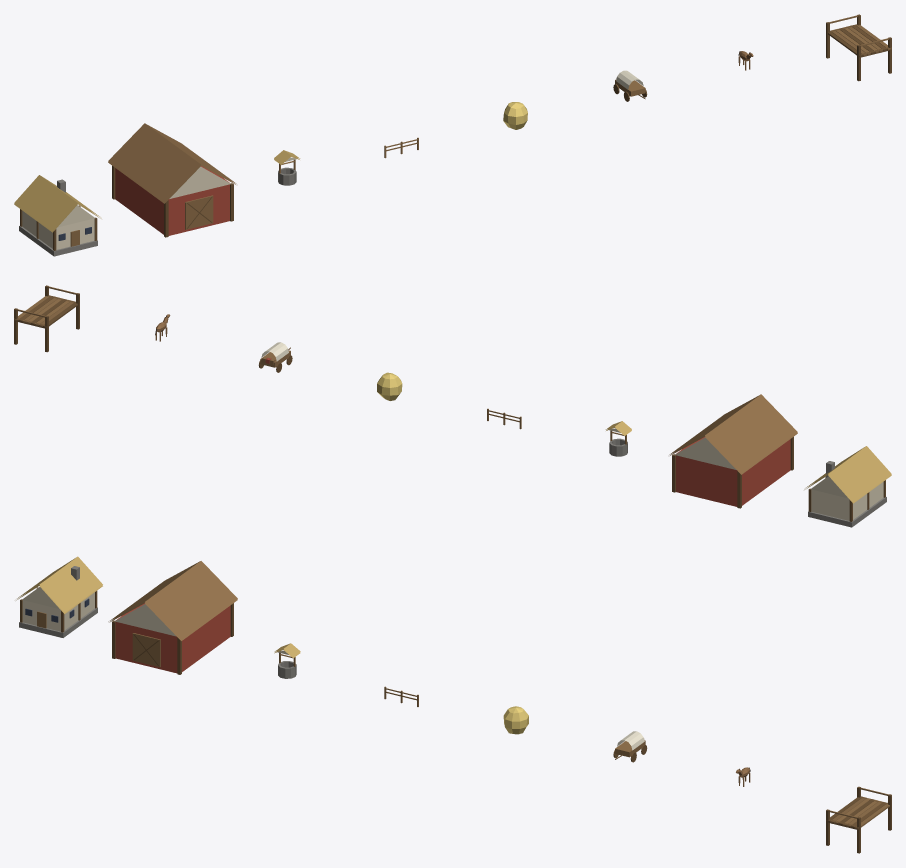
File: village.glb
3 renders of one model, top to bottom at view 1: azimuth 30°, elevation 25°; view 2: azimuth 150°, elevation 25°; view 3: azimuth 330°, elevation 25°, orthographic.
Parts seen in each view (by area): view 1: Village_Barn, Village_Cottage, Village_Bridge, Village_Wagon, Village_Well, Village_Hay; view 2: Village_Barn, Village_Cottage, Village_Bridge, Village_Wagon, Village_Well, Village_Hay; view 3: Village_Barn, Village_Cottage, Village_Bridge, Village_Wagon.
Part boxes in pixels (bbox=[...]): Village_Barn: bbox=[108, 123, 236, 237]; Village_Cottage: bbox=[14, 175, 101, 256]; Village_Bridge: bbox=[826, 14, 891, 81]; Village_Wagon: bbox=[613, 70, 647, 101]; Village_Well: bbox=[274, 150, 300, 185]; Village_Hay: bbox=[503, 102, 527, 129]; Village_Barn: bbox=[669, 394, 797, 508]; Village_Cottage: bbox=[804, 446, 891, 527]; Village_Bridge: bbox=[14, 285, 79, 352]; Village_Wagon: bbox=[258, 342, 292, 372]; Village_Well: bbox=[605, 421, 631, 456]; Village_Hay: bbox=[377, 372, 402, 400]; Village_Barn: bbox=[108, 561, 237, 674]; Village_Cottage: bbox=[16, 556, 102, 637]; Village_Bridge: bbox=[826, 786, 891, 853]; Village_Wagon: bbox=[613, 731, 647, 762].
Size of the model in its own units: 103 by 10.4 by 12.
